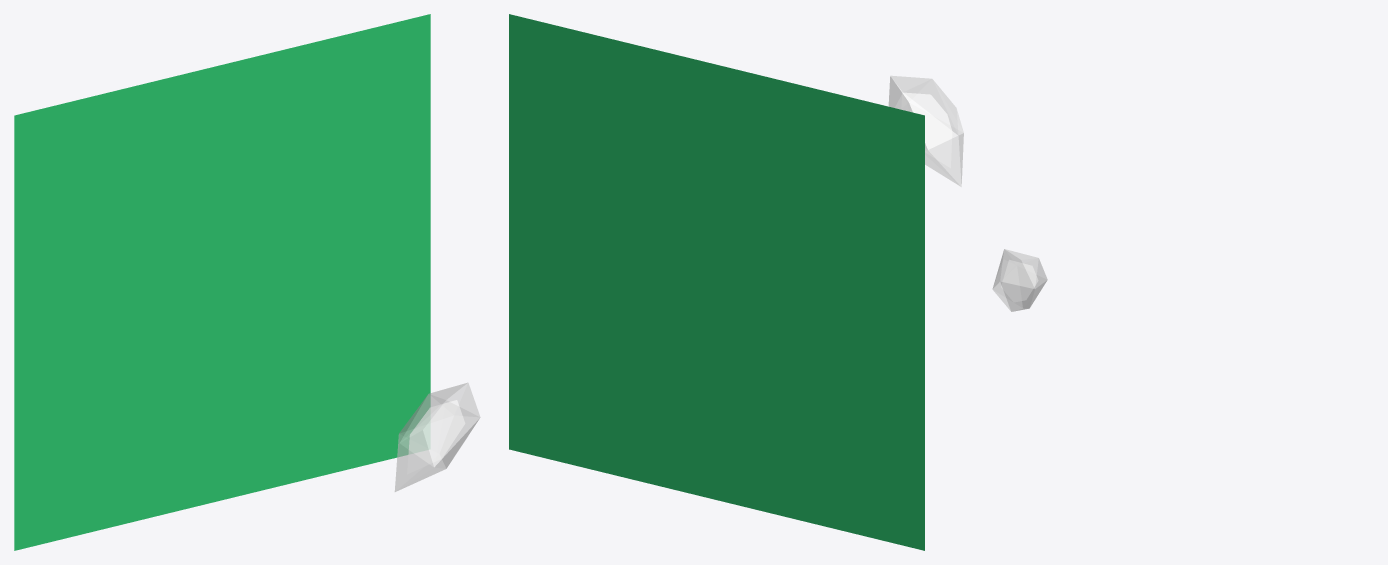
File: crystal.glb
3 views of the same model, side by side, from view 1: azimuth 30°, elevation 25°; view 2: azimuth 150°, elevation 25°; view 3: azimuth 270°, elevation 25° (orthographic). The views are drawn at different scales.
Parts seen in each view (by area): view 1: Plane, Icosphere, Icosphere.001; view 2: Plane, Icosphere, Icosphere.001; view 3: Icosphere, Icosphere.001.
Part boxes in pixels (<box>): Plane: <box>14,14,430,550</box>; Icosphere: <box>394,382,480,491</box>; Icosphere.001: <box>407,400,464,474</box>; Plane: <box>509,14,924,550</box>; Icosphere: <box>888,75,963,186</box>; Icosphere.001: <box>901,93,951,167</box>; Icosphere: <box>992,249,1047,311</box>; Icosphere.001: <box>1001,260,1038,302</box>.
Size of the model in its own units: 14.2 by 14.2 by 13.4.
